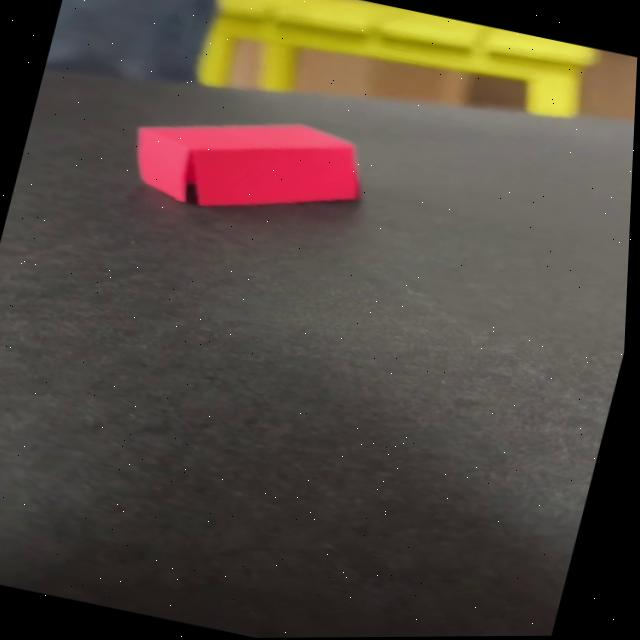red block: (116, 87, 376, 238)
